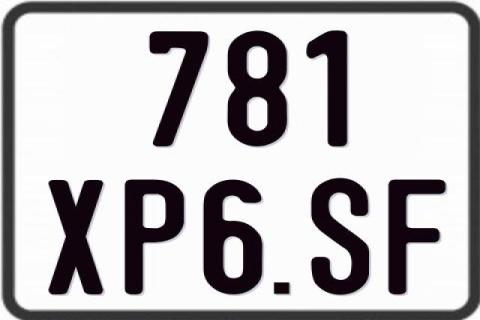0: (226, 31, 290, 150), (200, 180, 262, 294), (147, 30, 206, 148), (303, 29, 349, 145)
F: (386, 178, 446, 294)
P: (122, 178, 187, 298)
S: (309, 177, 372, 296)
X: (46, 179, 105, 297)
